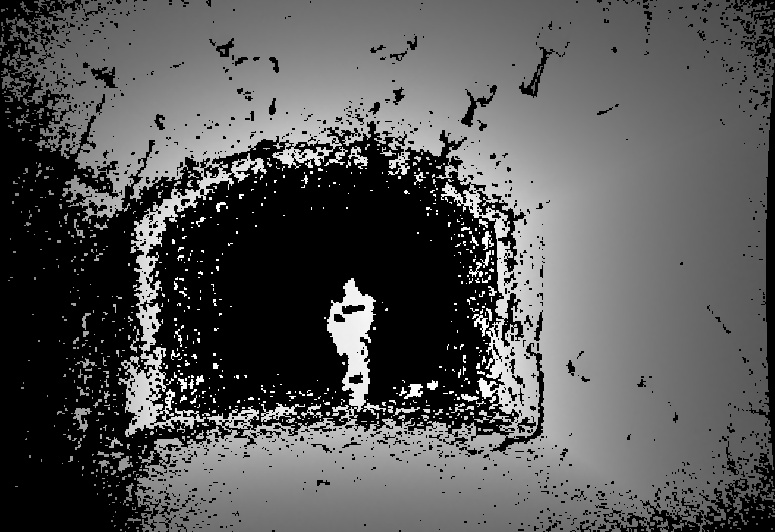person: (325, 276, 378, 405)
